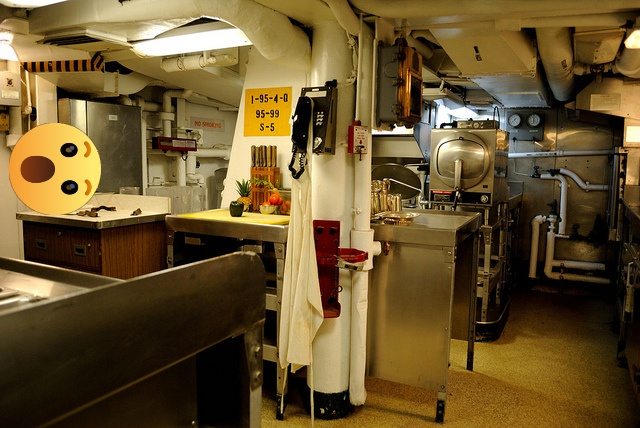wow: (9, 123, 101, 215)
